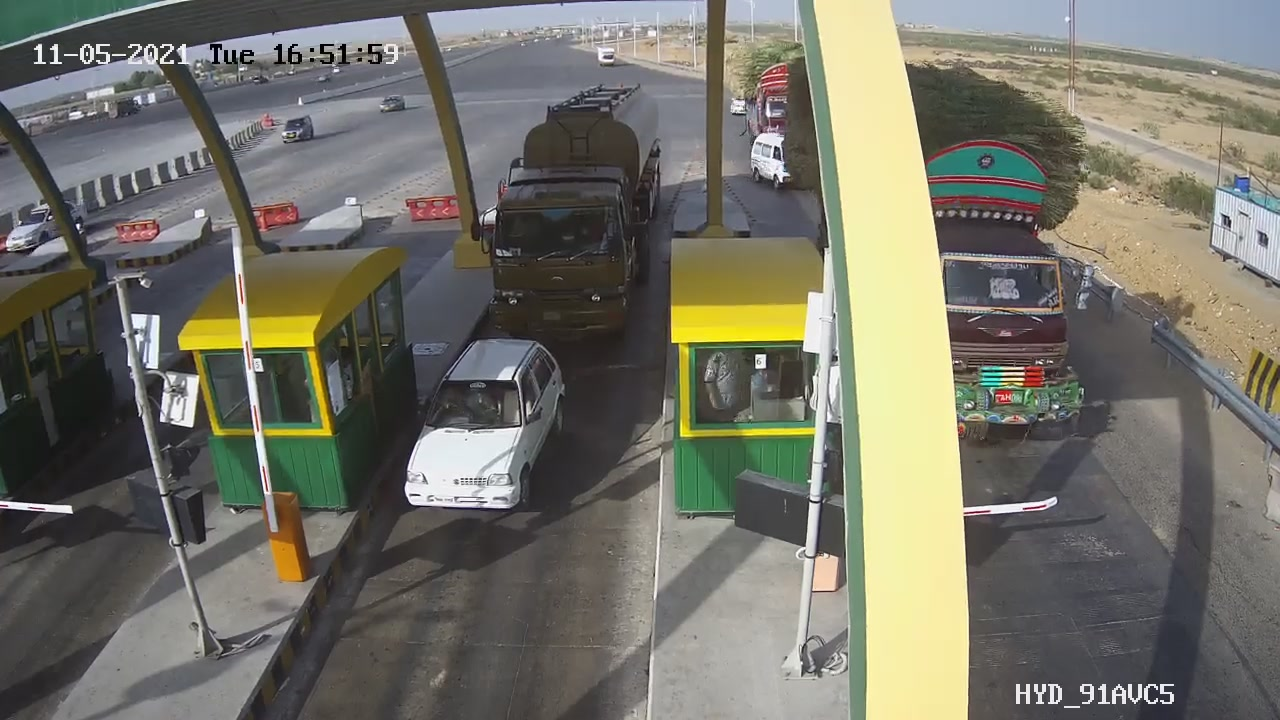F1: (387, 324, 594, 534)
F6: (478, 65, 677, 335)
